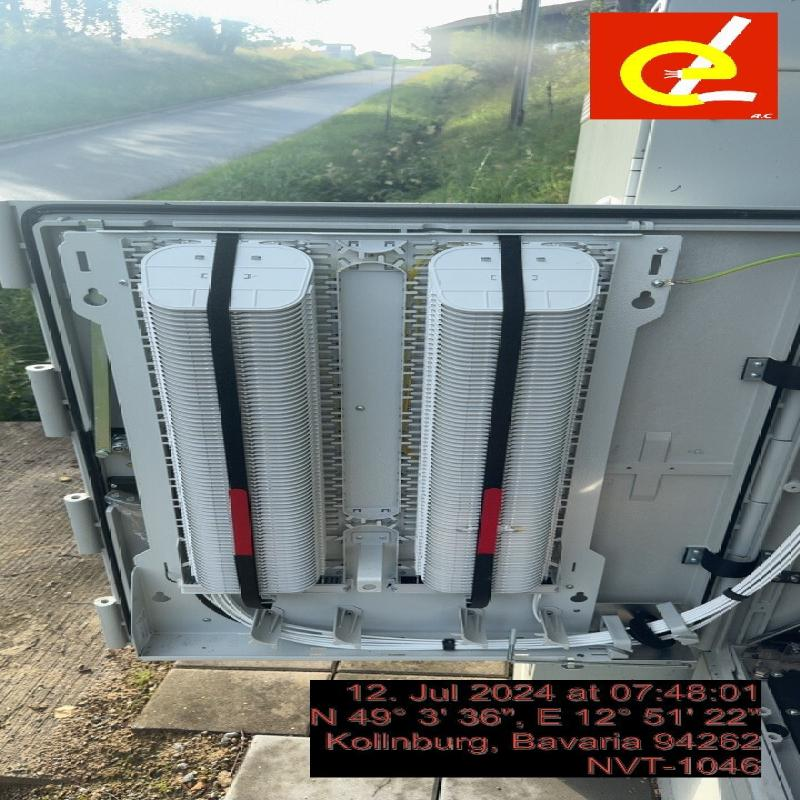NT-Gehause: (12, 199, 800, 797)
Spleiskassetten: (137, 241, 339, 598), (417, 236, 600, 599)
